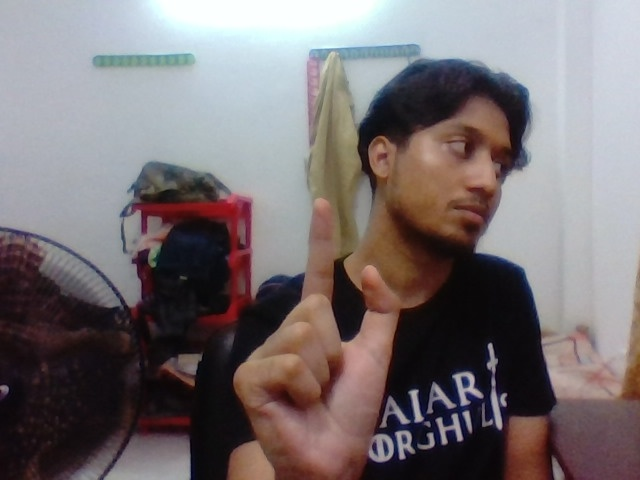J: (229, 187, 407, 434)
